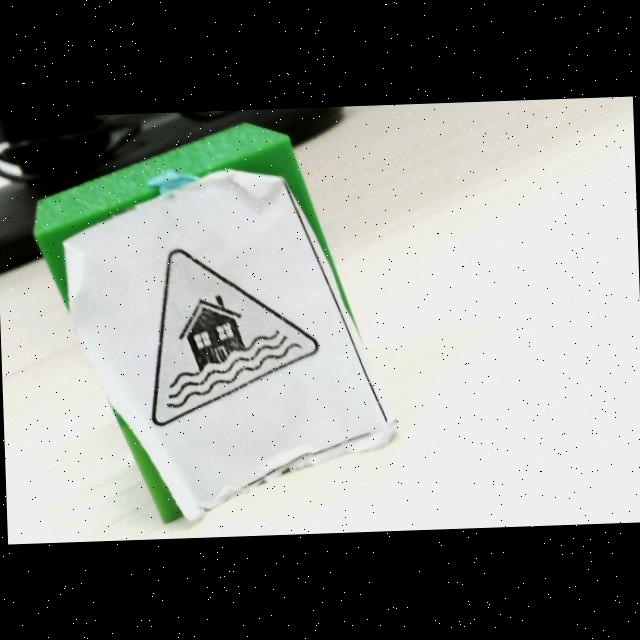Tsunami: (152, 249, 318, 426)
